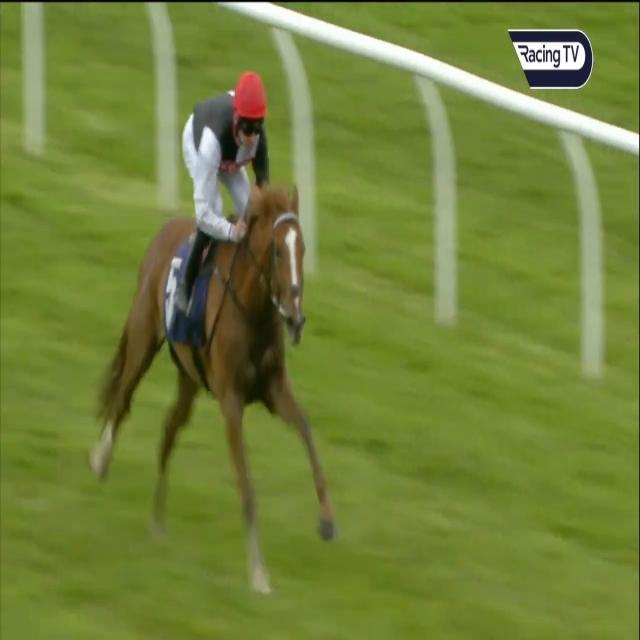horses-racing: (121, 71, 354, 585)
